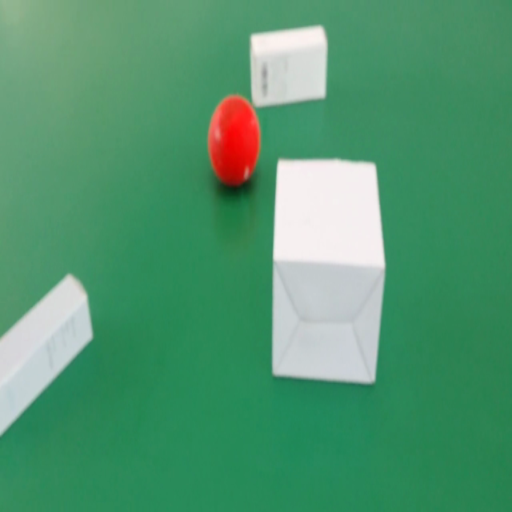ball: (207, 93, 259, 187)
